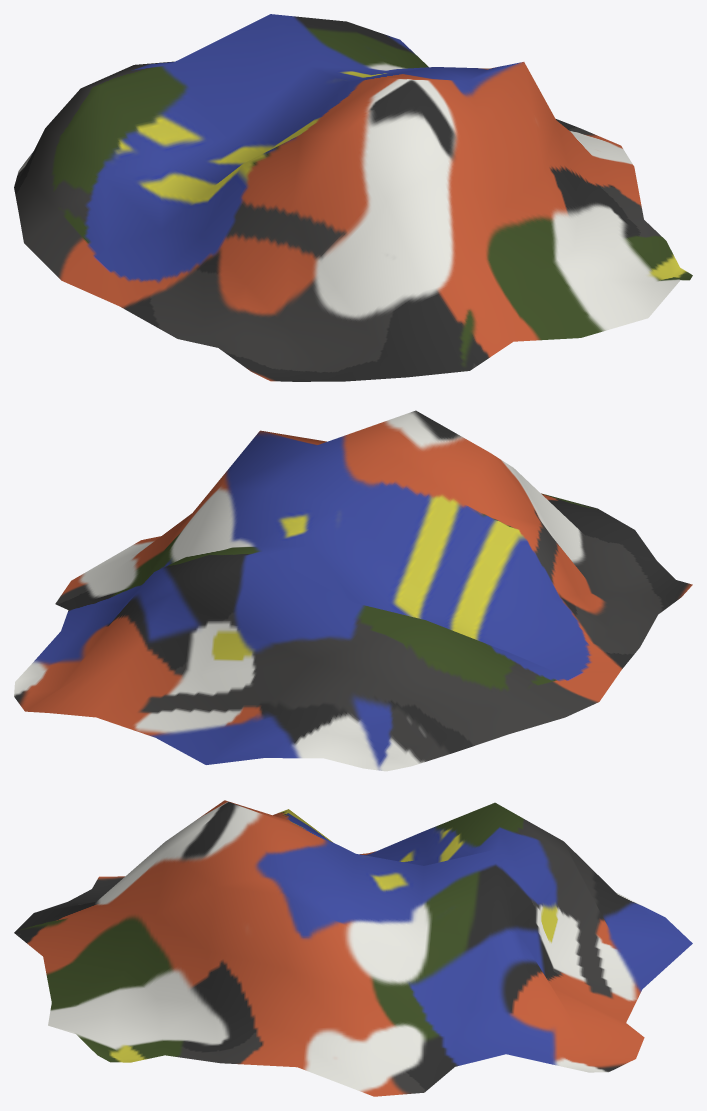
The model's file is clothes_pile.fbx.
3 views of the same model, one above another, from view 1: azimuth 30°, elevation 25°; view 2: azimuth 150°, elevation 25°; view 3: azimuth 270°, elevation 25° (orthographic). The views are drawn at different scales.
Visible parts, largest first — view 1: pPlane1; view 2: pPlane1; view 3: pPlane1.
Part boxes in pixels (x1,y1,x2,y2): pPlane1: (14, 14, 692, 381); pPlane1: (14, 410, 692, 771); pPlane1: (14, 800, 692, 1096).
Bounding box in the file's own units: 130 × 44.63 × 156.
